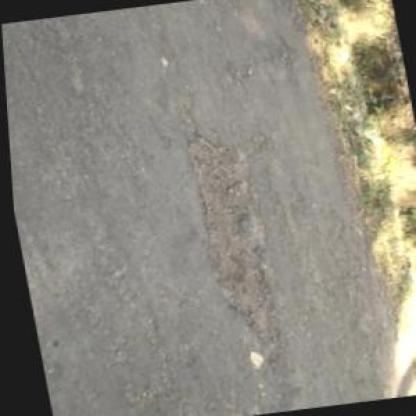pothole: (176, 125, 287, 370), (276, 36, 301, 93)
